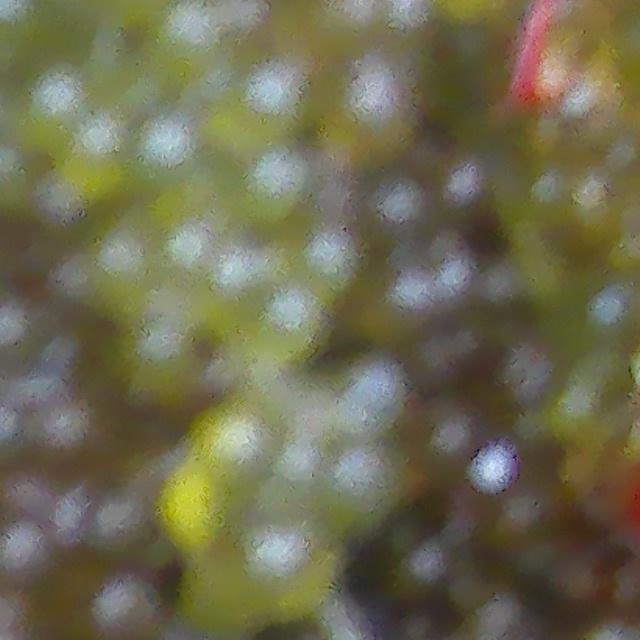SeaGrape: (450, 432, 543, 541), (364, 179, 436, 235), (104, 567, 155, 640), (427, 154, 487, 214), (29, 412, 99, 460), (0, 525, 55, 576), (390, 260, 441, 313)
